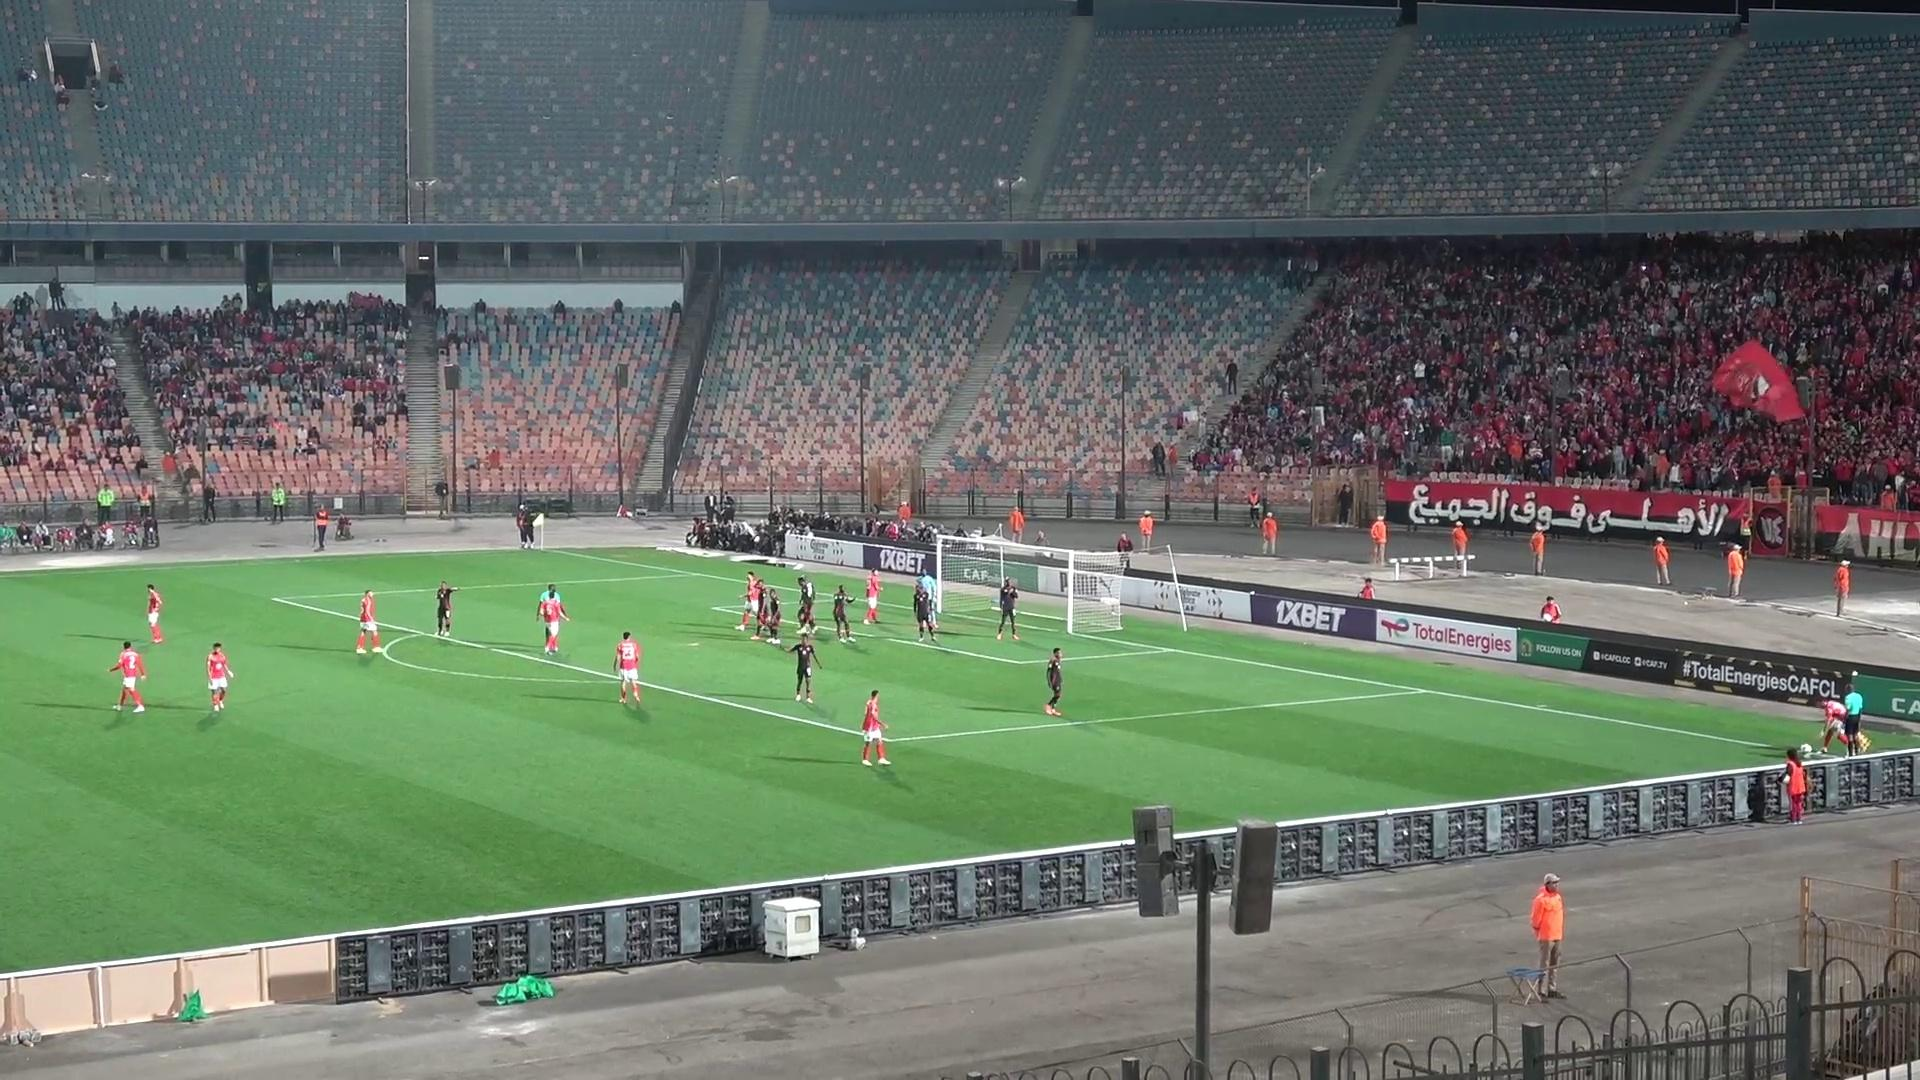Ball: (1797, 742, 1820, 757)
Refree: (1844, 676, 1870, 752)
Team1: (108, 642, 146, 712), (535, 584, 568, 655), (1817, 695, 1853, 753), (861, 690, 887, 766), (735, 571, 764, 638), (615, 632, 641, 705), (206, 644, 233, 711), (355, 589, 382, 651), (146, 584, 165, 644), (862, 570, 882, 625)
Team2: (786, 633, 819, 702), (996, 578, 1021, 640), (913, 580, 938, 641), (757, 585, 782, 644), (1043, 647, 1064, 715), (831, 585, 855, 644), (796, 574, 818, 636), (434, 582, 458, 636)
